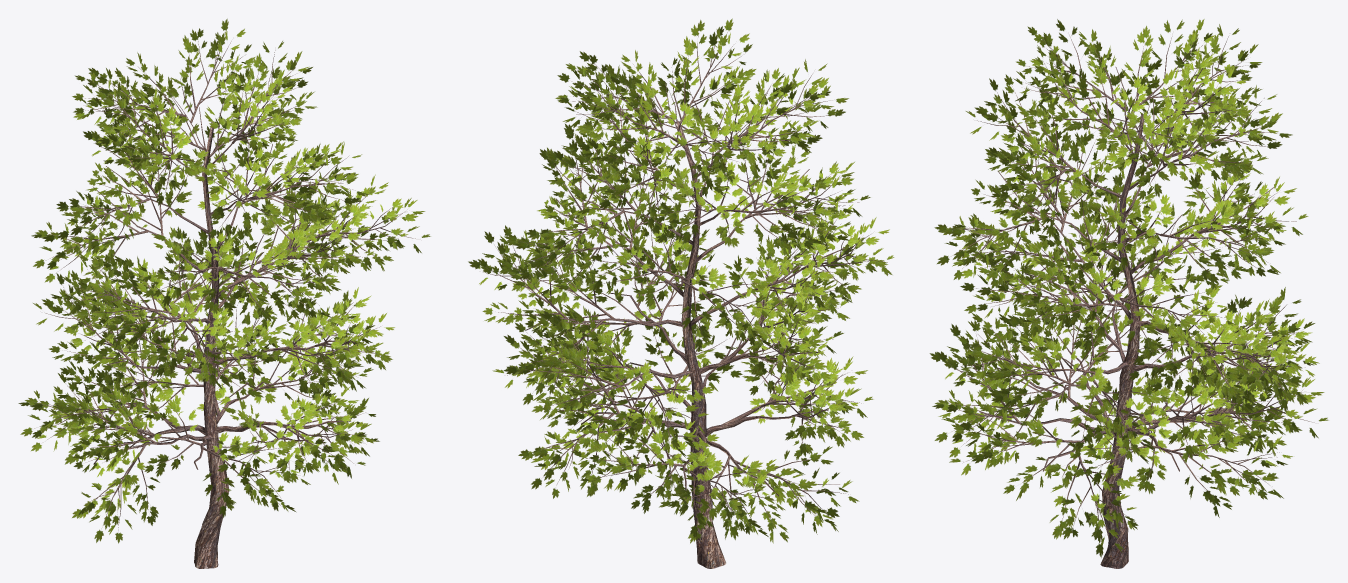
File: tree_v3.glb
3 renders of one model, left to right at view 1: azimuth 30°, elevation 25°; view 2: azimuth 150°, elevation 25°; view 3: azimuth 270°, elevation 25°, orthographic. The views are drawn at different scales.
Parts seen in each view (by area): view 1: Maple; view 2: Maple; view 3: Maple.
Boxes of the visible parts, x1,y1,x2,y2 form: Maple: (18,18,430,568); Maple: (468,18,894,568); Maple: (929,19,1328,568).
Bounding box in the file's own units: 24.9 × 32.53 × 22.66.
2 materials, 2 textured.
